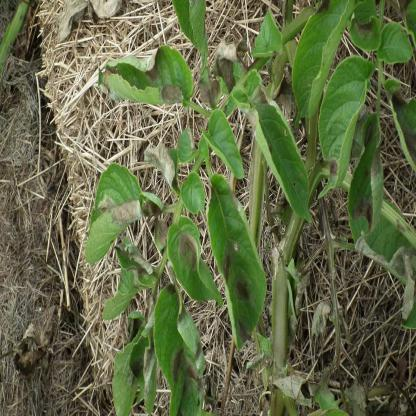potato leaf early blight: (202, 171, 268, 352), (243, 102, 314, 223), (319, 55, 377, 199), (147, 282, 209, 414), (83, 164, 153, 266), (95, 46, 194, 115), (165, 211, 221, 311), (346, 113, 387, 248)
